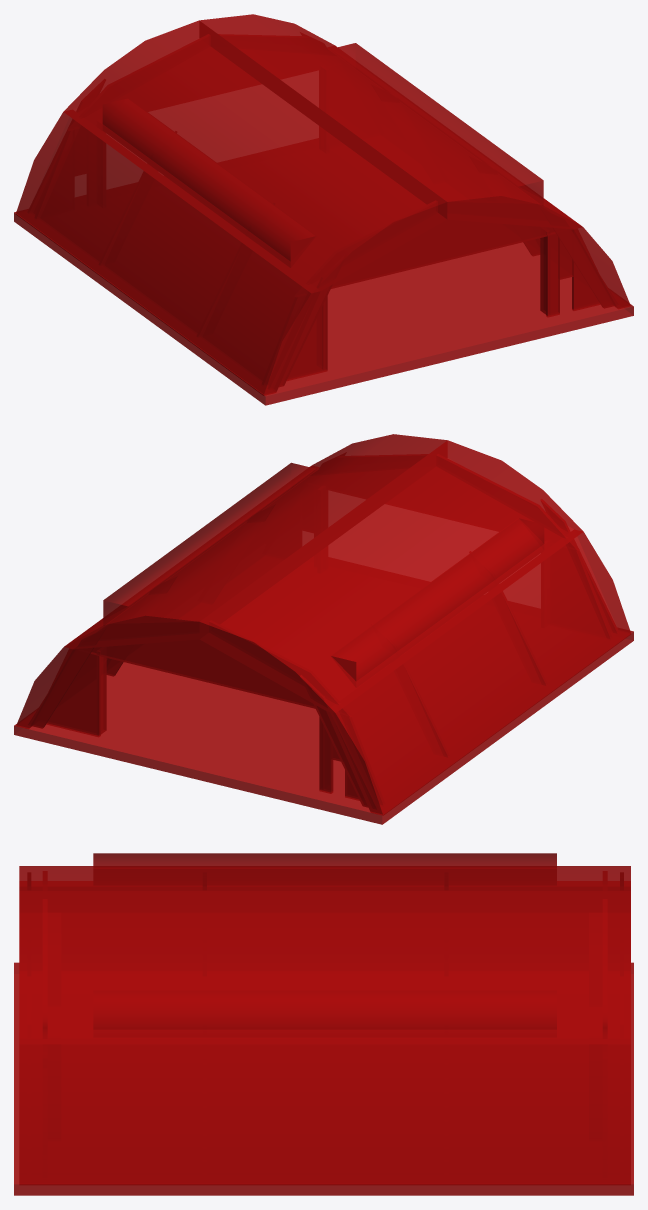
Rendered from SM_Bld_Hangar_01_Collision.fbx.
3 views of the same model, one above another, from view 1: azimuth 30°, elevation 25°; view 2: azimuth 150°, elevation 25°; view 3: azimuth 270°, elevation 25° (orthographic). The views are drawn at different scales.
Parts seen in each view (by area): view 1: SM_Bld_Hangar_01_Collision; view 2: SM_Bld_Hangar_01_Collision; view 3: SM_Bld_Hangar_01_Collision.
Boxes of the visible parts, x1,y1,x2,y2 form: SM_Bld_Hangar_01_Collision: (14, 14, 633, 405); SM_Bld_Hangar_01_Collision: (14, 434, 633, 824); SM_Bld_Hangar_01_Collision: (14, 853, 633, 1195).
Bounding box in the file's own units: 3063 × 1249 × 3621.
